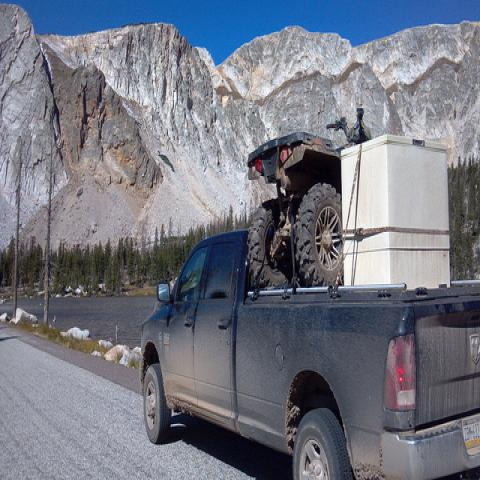motorcycle: (241, 103, 375, 291)
truck: (139, 107, 479, 473)
